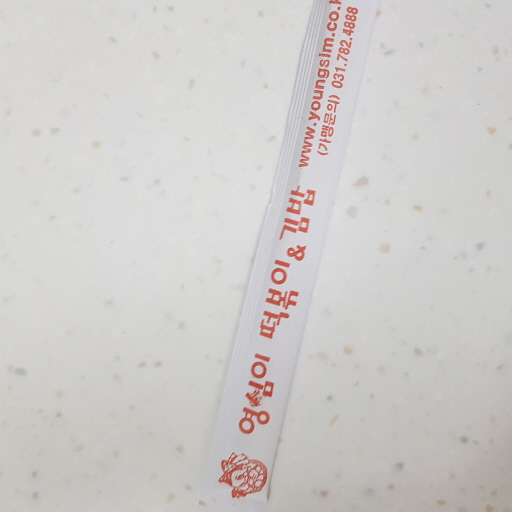Paper_2: (204, 5, 379, 502)
